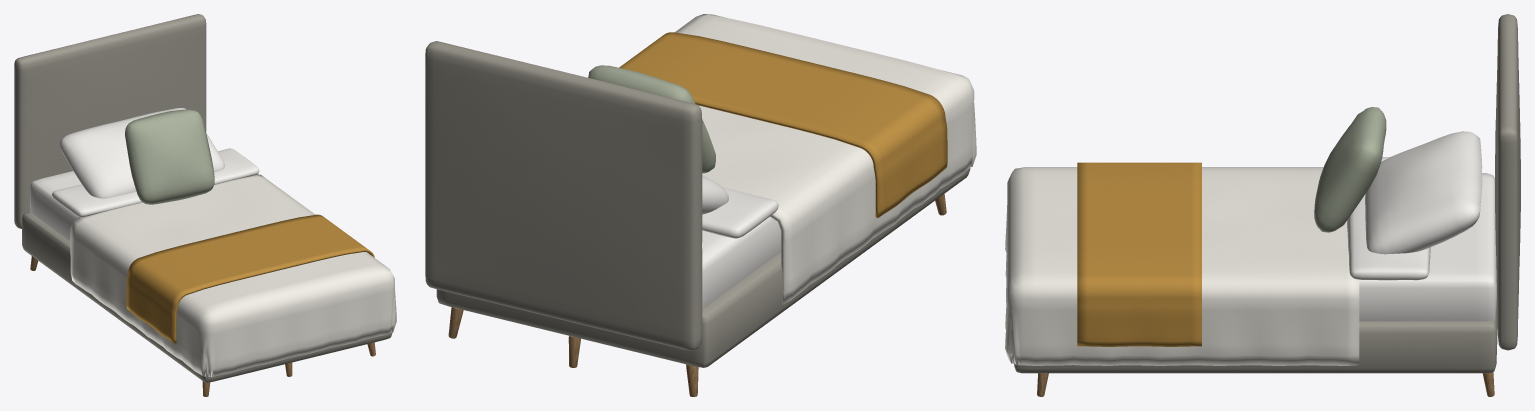
Rendered from cama_tapizada_105.glb.
The picture shows the model from 3 angles, left to right: view 1: azimuth 30°, elevation 25°; view 2: azimuth 150°, elevation 25°; view 3: azimuth 270°, elevation 25°; orthographic projection. The views are drawn at different scales.
Visible parts, largest first — view 1: cama_tapizada_105; view 2: cama_tapizada_105; view 3: cama_tapizada_105.
Boxes of the visible parts, x1=… form: cama_tapizada_105: x1=14, y1=14, x2=396, y2=396; cama_tapizada_105: x1=425, y1=14, x2=976, y2=396; cama_tapizada_105: x1=1005, y1=14, x2=1520, y2=396.
Size of the model in its own units: 1.23 by 1.21 by 2.07.
Materials: 6 (6 with a texture image).
